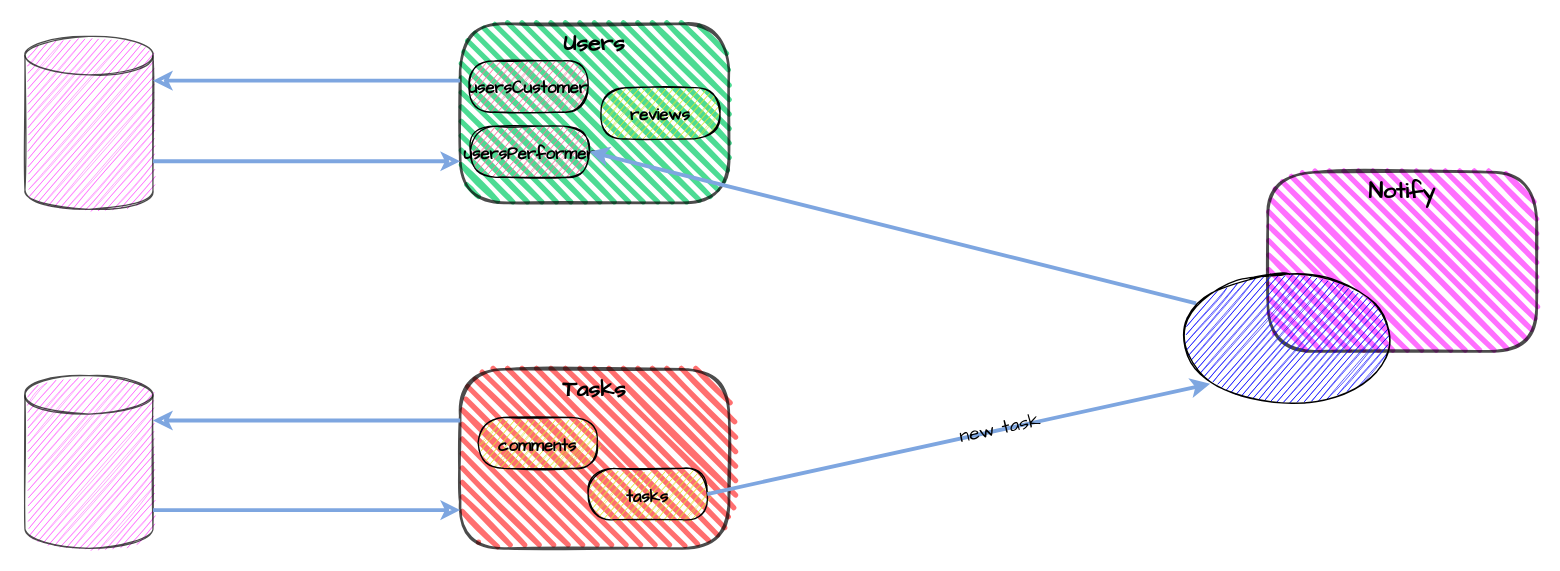
The diagram is 1560 pixels wide and 571 high, and some of its shapes have lost their labels. The box of each missing label's shape, as (x1, y1, x2, y2) in pixels:
MongoDB: (24, 35, 153, 209)
PostgreSQL: (24, 374, 153, 548)
RabbitMQ: (1177, 273, 1396, 403)
